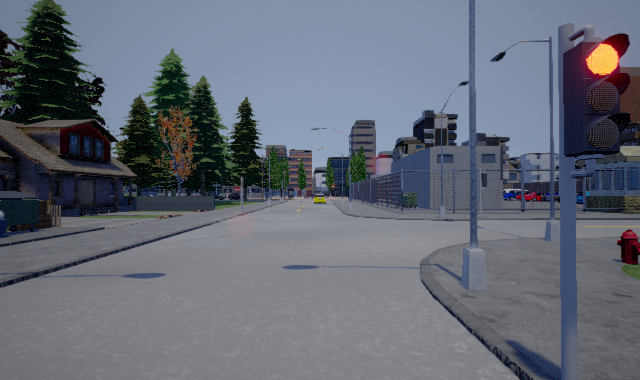traffic_light: (563, 25, 631, 178)
